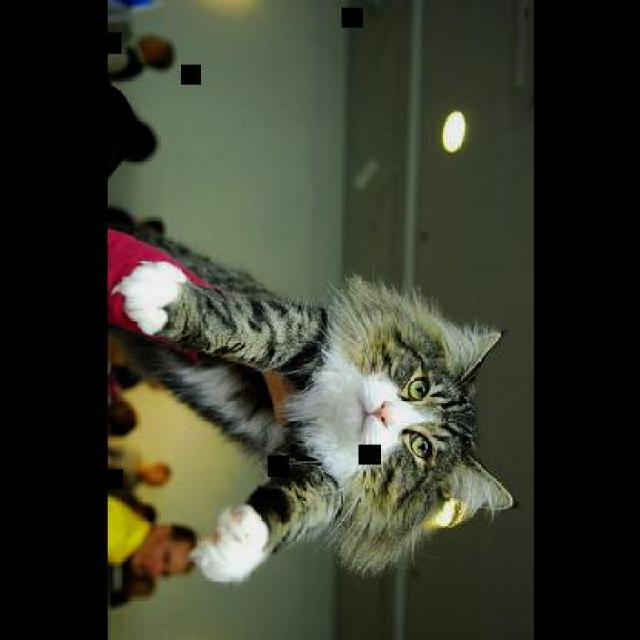unauthorized: (107, 214, 516, 586)
